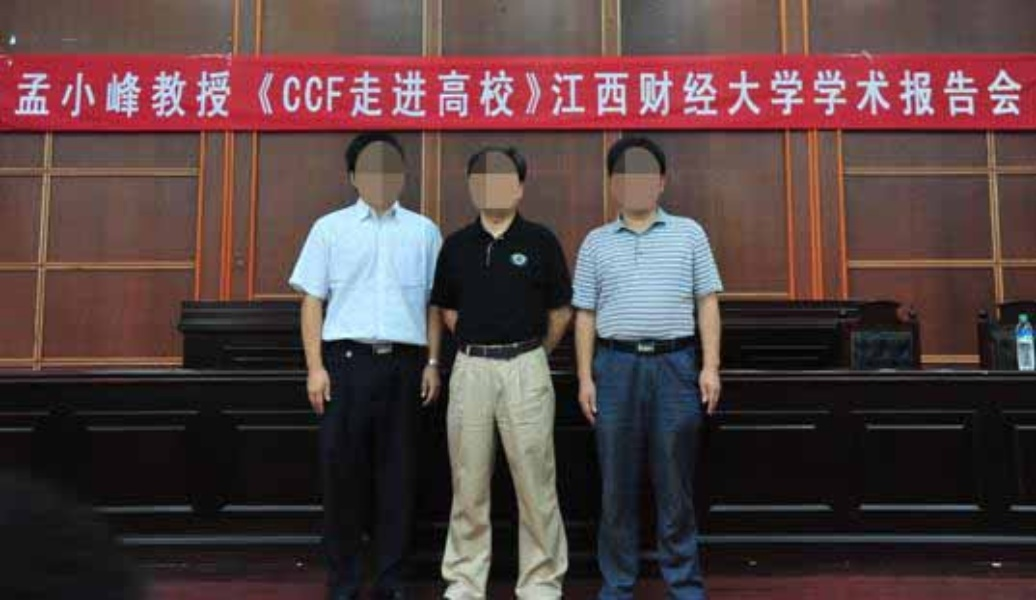text: (17, 68, 32, 120), (33, 68, 48, 120), (49, 68, 64, 120), (65, 68, 80, 120), (81, 68, 96, 120), (97, 68, 112, 120), (113, 68, 128, 120), (129, 68, 144, 120), (145, 68, 160, 120), (161, 68, 176, 120), (177, 68, 192, 120), (193, 68, 208, 120), (209, 68, 224, 120), (225, 68, 240, 120), (241, 68, 256, 120), (257, 68, 272, 120), (273, 68, 288, 120), (289, 68, 304, 120), (305, 68, 320, 120), (321, 68, 336, 120), (337, 68, 352, 120), (353, 68, 368, 120), (369, 68, 384, 120), (385, 68, 400, 120), (401, 68, 416, 120), (417, 68, 432, 120), (433, 68, 448, 120), (449, 68, 464, 120), (465, 68, 480, 120), (481, 68, 496, 120), (497, 68, 512, 120), (513, 68, 528, 120), (529, 68, 544, 120), (545, 68, 560, 120), (561, 68, 576, 120), (577, 68, 592, 120), (593, 68, 608, 120), (609, 68, 624, 120), (625, 68, 640, 120), (641, 68, 656, 120), (657, 68, 672, 120), (673, 68, 688, 120), (689, 68, 704, 120), (705, 68, 720, 120), (721, 68, 736, 120), (737, 68, 752, 120), (753, 68, 768, 120), (769, 68, 784, 120), (785, 68, 800, 120), (801, 68, 816, 120), (817, 68, 832, 120), (833, 68, 848, 120), (849, 68, 864, 120), (865, 68, 880, 120), (881, 68, 896, 120), (897, 68, 912, 120), (913, 68, 928, 120), (929, 68, 944, 120), (945, 68, 960, 120), (961, 68, 976, 120), (977, 68, 992, 120), (993, 68, 1008, 120), (1009, 68, 1024, 120), (12, 68, 16, 120), (1025, 68, 1027, 120)
